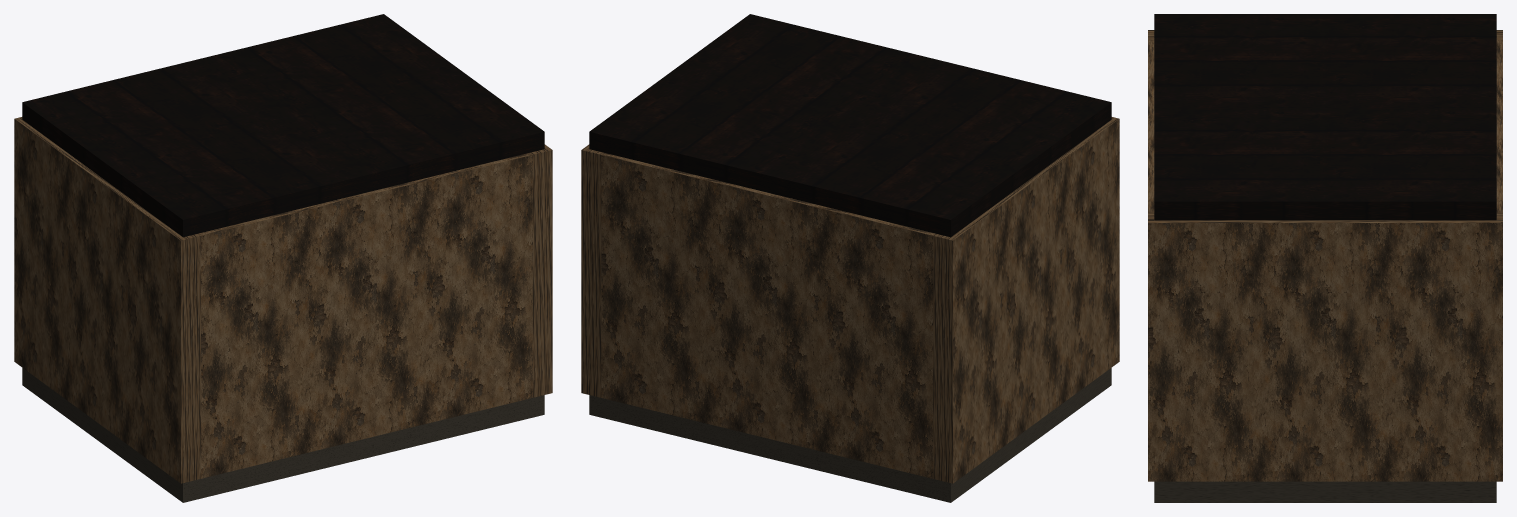
Rendered from enclosed-B-v8.glb.
3 views of the same model, side by side, from view 1: azimuth 30°, elevation 25°; view 2: azimuth 150°, elevation 25°; view 3: azimuth 270°, elevation 25° (orthographic). The views are drawn at different scales.
Visible parts, largest first — view 1: 密閉調查區_B; view 2: 密閉調查區_B; view 3: 密閉調查區_B.
Part boxes in pixels (left/top/right/bottom): 密閉調查區_B: left=14, top=14, right=552, bottom=502; 密閉調查區_B: left=581, top=14, right=1119, bottom=502; 密閉調查區_B: left=1148, top=14, right=1502, bottom=502.
Bounding box in the file's own units: 4.48 × 3.26 × 3.48.
Materials: 18 (10 with a texture image).
